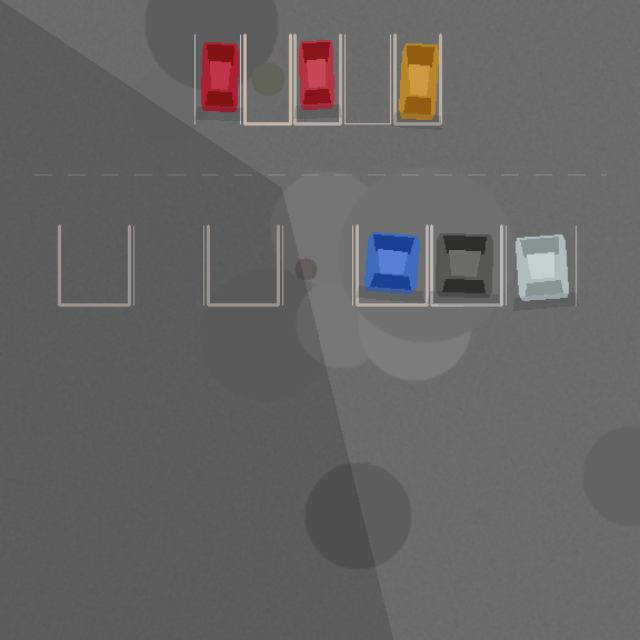space-empty: (59, 226, 129, 304), (133, 226, 203, 304), (208, 226, 278, 304), (282, 226, 352, 304), (244, 34, 290, 123), (344, 34, 390, 123)
space-occupied: (357, 226, 427, 304), (431, 226, 501, 304), (506, 226, 576, 304), (194, 34, 240, 123), (294, 34, 340, 123), (394, 34, 440, 123)
